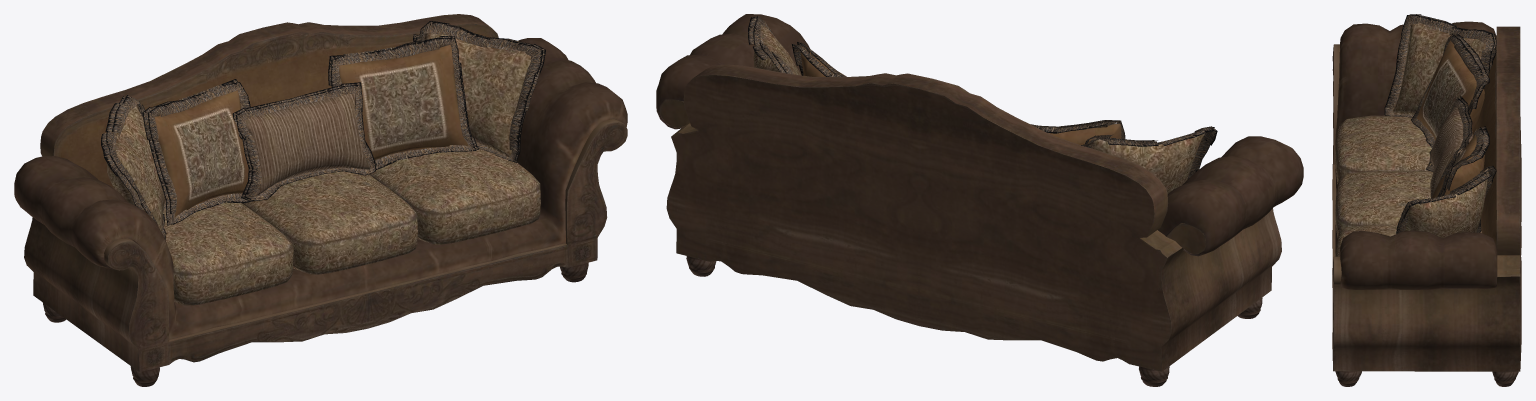
The model's file is sofa_03.glb.
3 views of the same model, side by side, from view 1: azimuth 30°, elevation 25°; view 2: azimuth 150°, elevation 25°; view 3: azimuth 270°, elevation 25° (orthographic). The views are drawn at different scales.
Parts seen in each view (by area): view 1: sofa_03; view 2: sofa_03; view 3: sofa_03.
Part boxes in pixels (left/top/right/bottom): sofa_03: left=14, top=14, right=627, bottom=386; sofa_03: left=656, top=14, right=1303, bottom=386; sofa_03: left=1332, top=14, right=1521, bottom=386.
Bounding box in the file's own units: 2.73 × 1.12 × 0.9251.
Materials: 2 (2 with a texture image).
